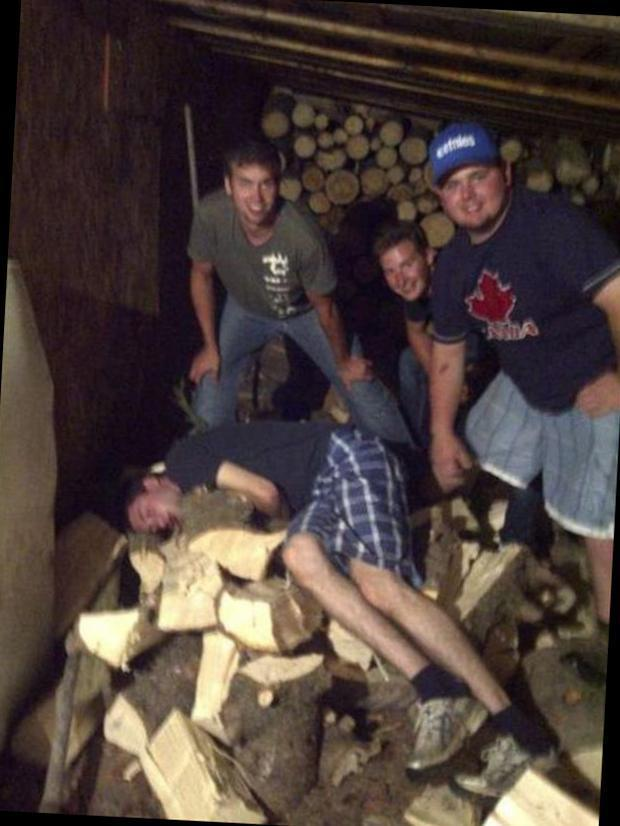Drunk: (444, 175, 502, 219), (227, 165, 273, 218), (376, 255, 423, 298), (132, 495, 186, 532)
